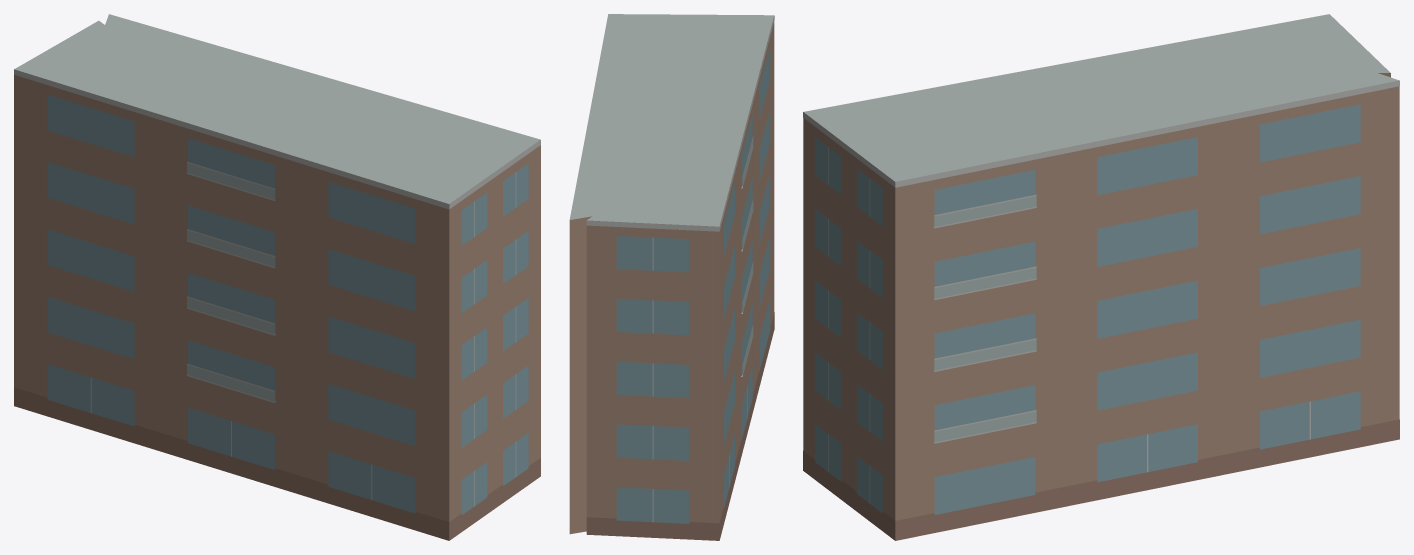
Rendered from survey-upis-32992122.glb.
The picture shows the model from 3 angles, left to right: view 1: azimuth 30°, elevation 25°; view 2: azimuth 150°, elevation 25°; view 3: azimuth 270°, elevation 25°; orthographic projection. The views are drawn at different scales.
Visible parts, largest first — view 1: survey-upis-32992122.tmp; view 2: survey-upis-32992122.tmp; view 3: survey-upis-32992122.tmp.
Part boxes in pixels (x1=…): survey-upis-32992122.tmp: x1=14, y1=14, x2=540, y2=540; survey-upis-32992122.tmp: x1=569, y1=14, x2=774, y2=540; survey-upis-32992122.tmp: x1=803, y1=14, x2=1399, y2=540.
Bounding box in the file's own units: 15.32 × 15.25 × 22.98.
